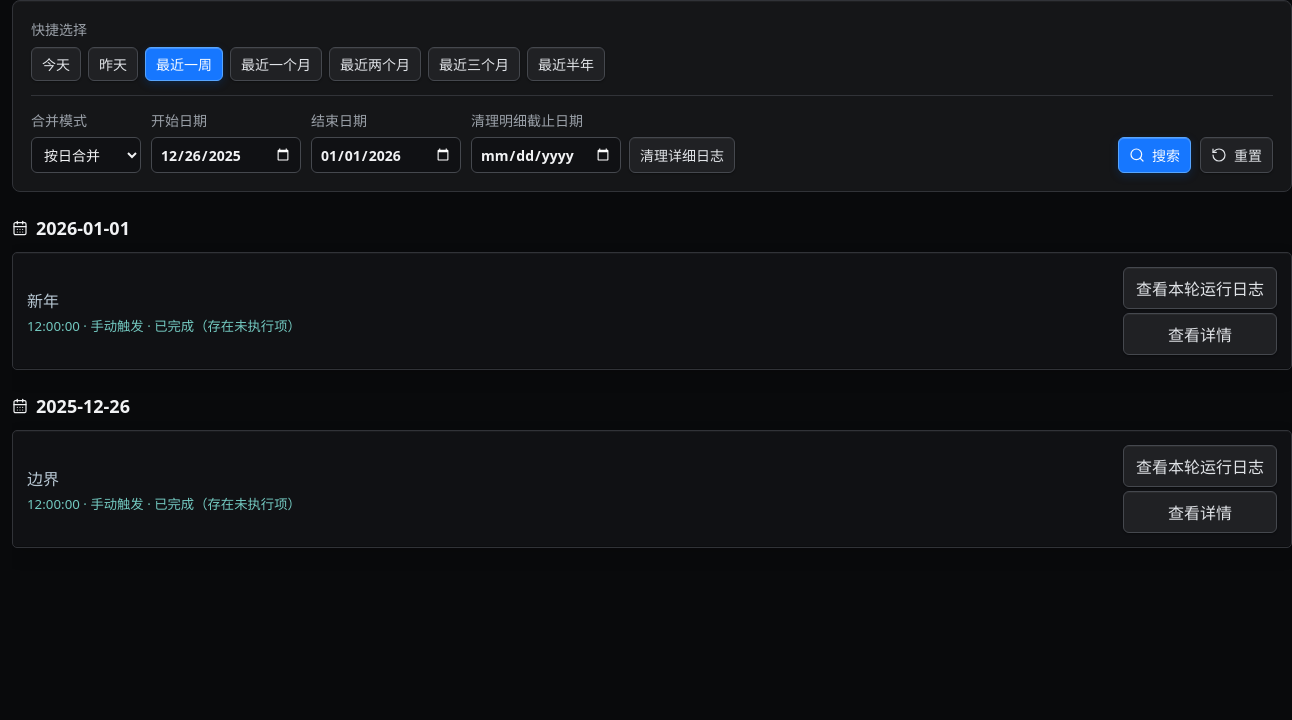
Scenario: presets, search, invalid range and reset retain applied results correctly
Click the button "昨天" at x=113, y=64, box [88,47,138,81]
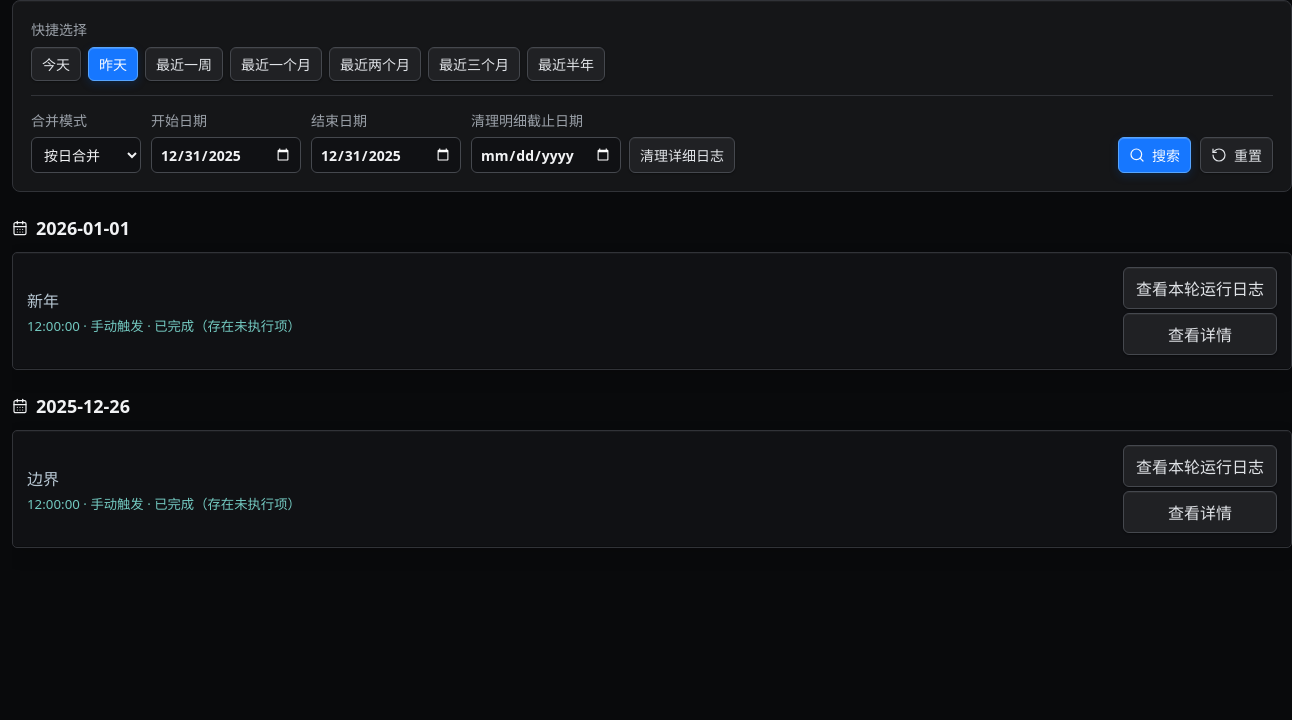
Expected: the date field named "开始日期" holds "2025-12-31", [151,137,301,173]
Click the button "搜索" at x=1154, y=155, box [1118,137,1191,173]
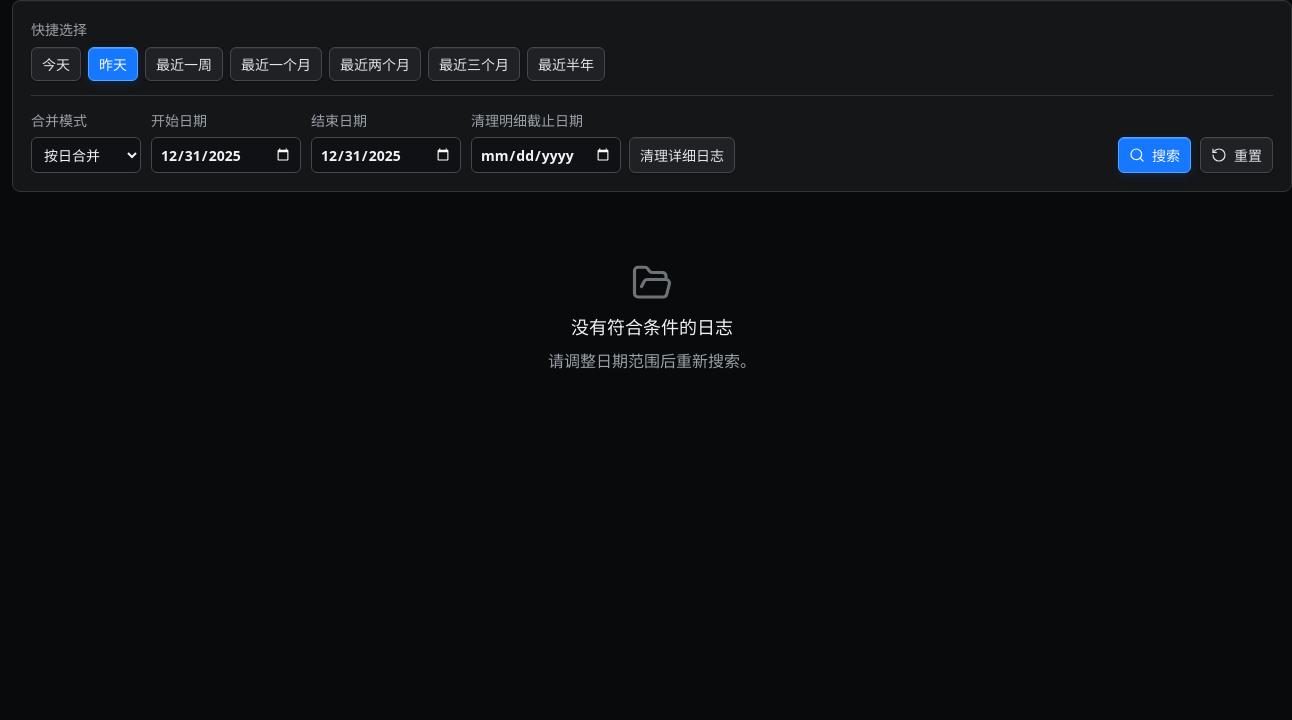
Expected: the text "没有符合条件的日志" is shown, [571,313,733,339]
Type "2026-02-01" into the date field named "开始日期" at x=226, y=155, box [151,137,301,173]
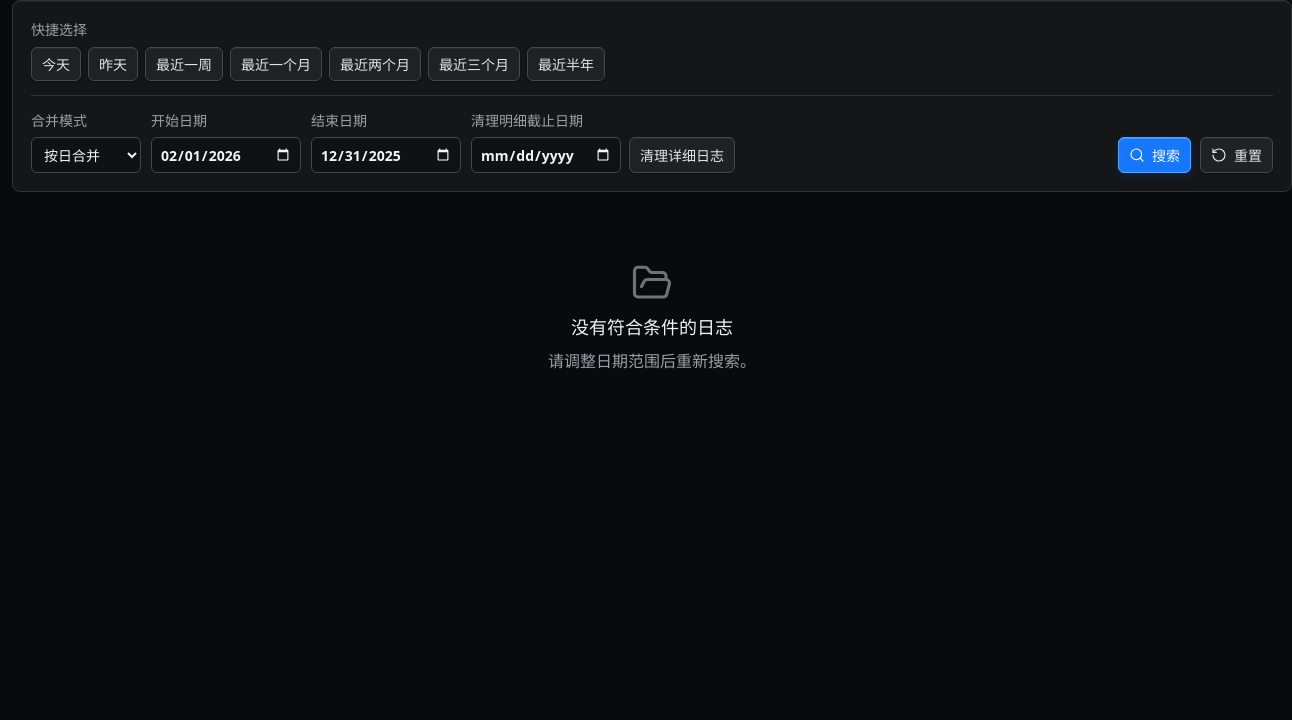
Type "2026-01-01" into the date field named "结束日期" at x=386, y=155, box [311,137,461,173]
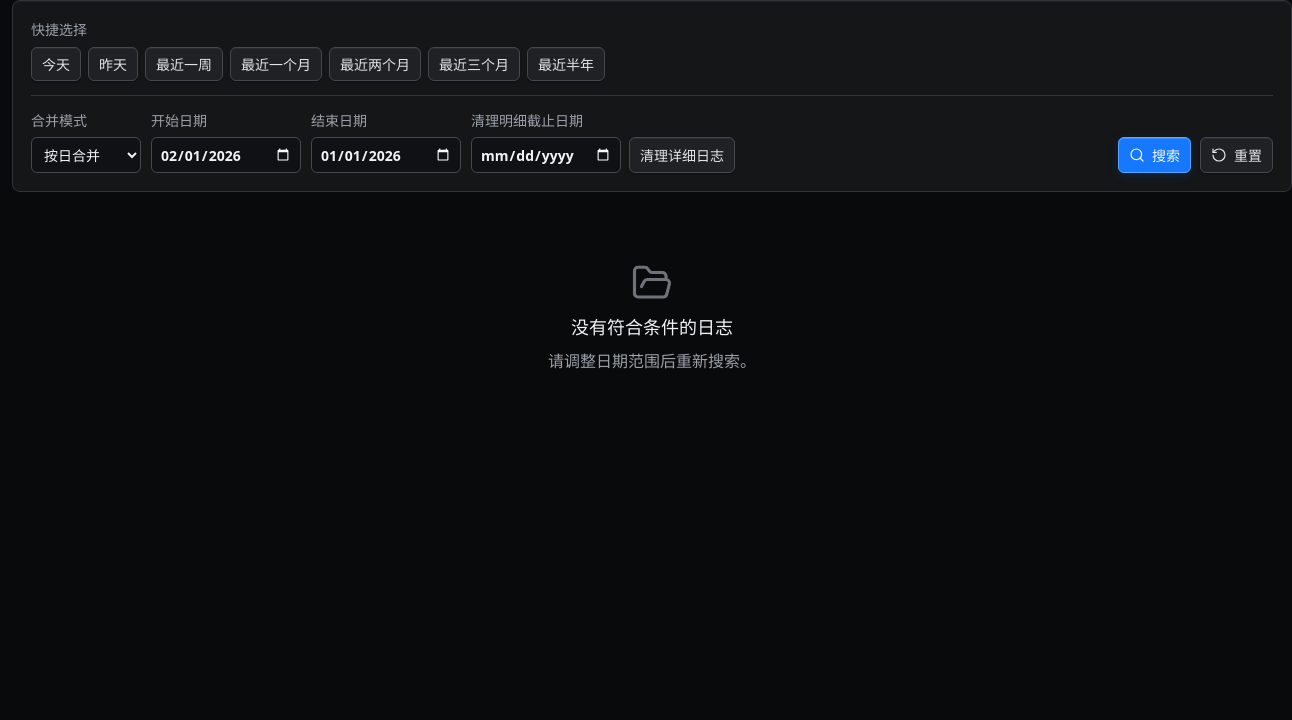
Click the button "搜索" at x=1154, y=155, box [1118,137,1191,173]
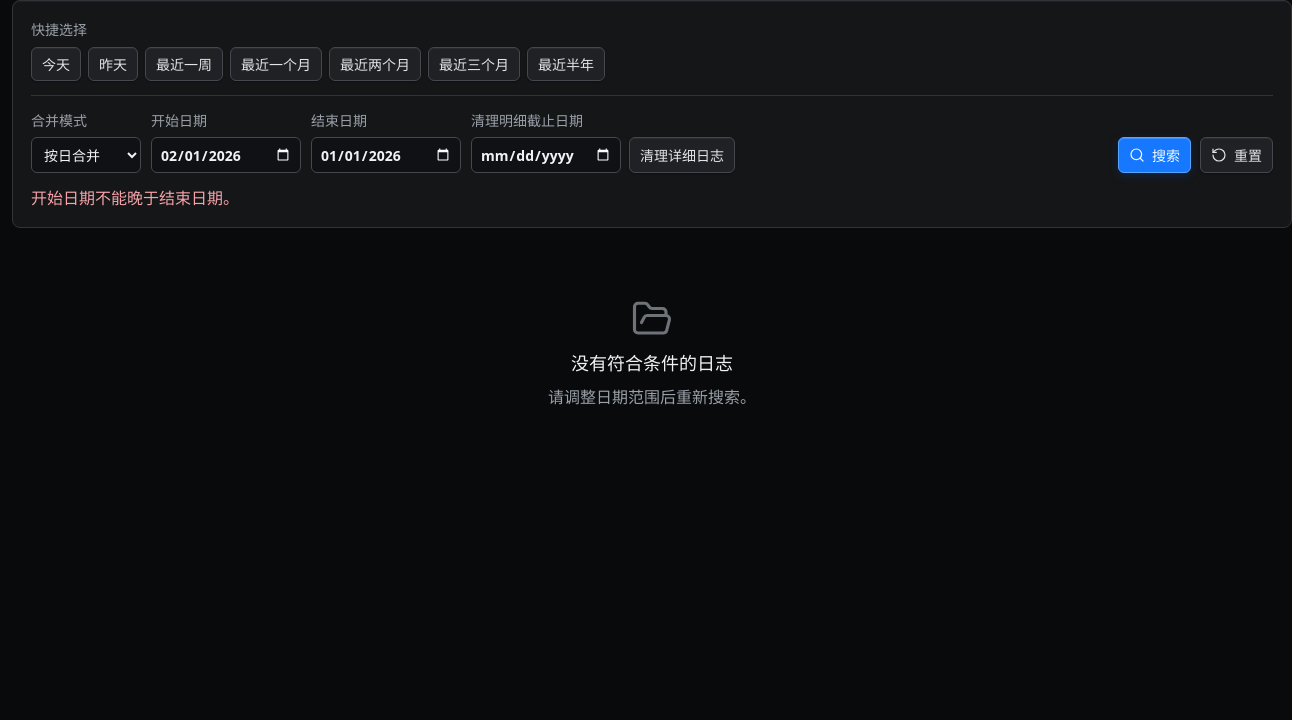
Expected: the text "没有符合条件的日志" is shown, [571,349,733,375]
Expected: the text "开始日期不能晚于结束日期" is shown, [31,187,239,209]
Click the button "重置" at x=1236, y=155, box [1200,137,1273,173]
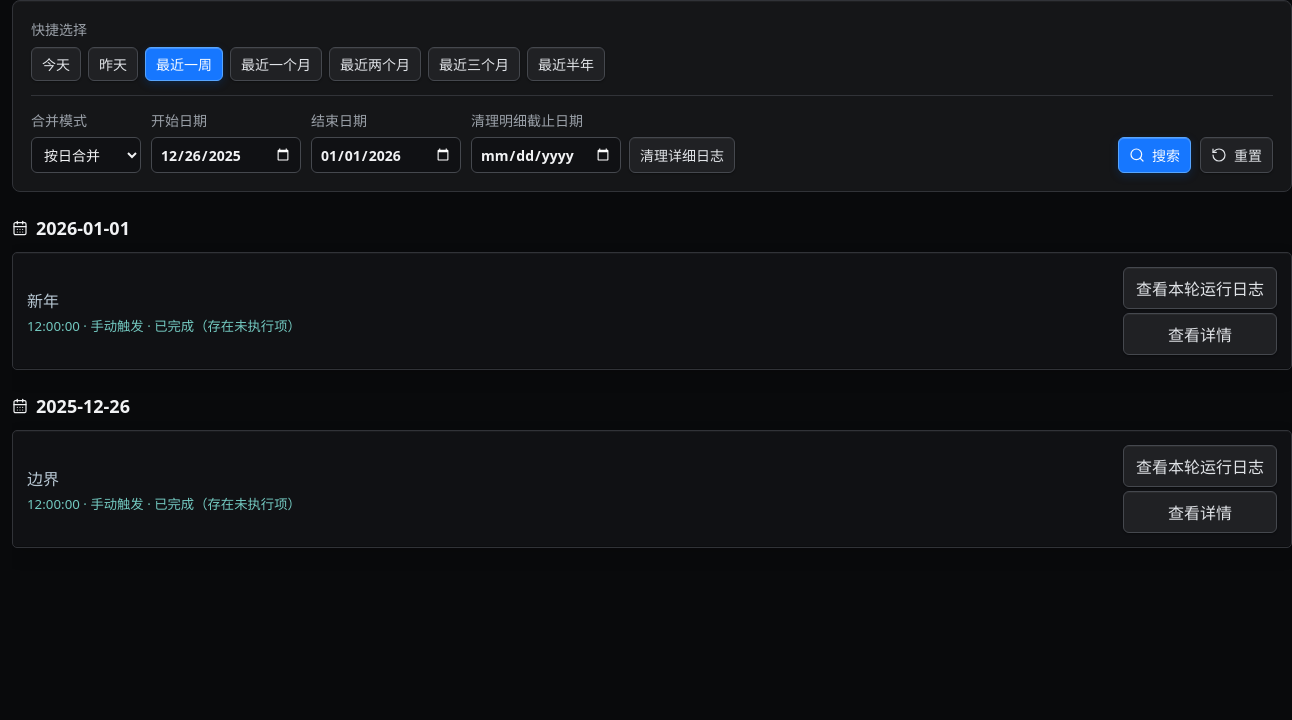
Expected: the text "新年" is shown, [27,290,59,312]
Expected: the text "边界" is shown, [27,468,59,490]
